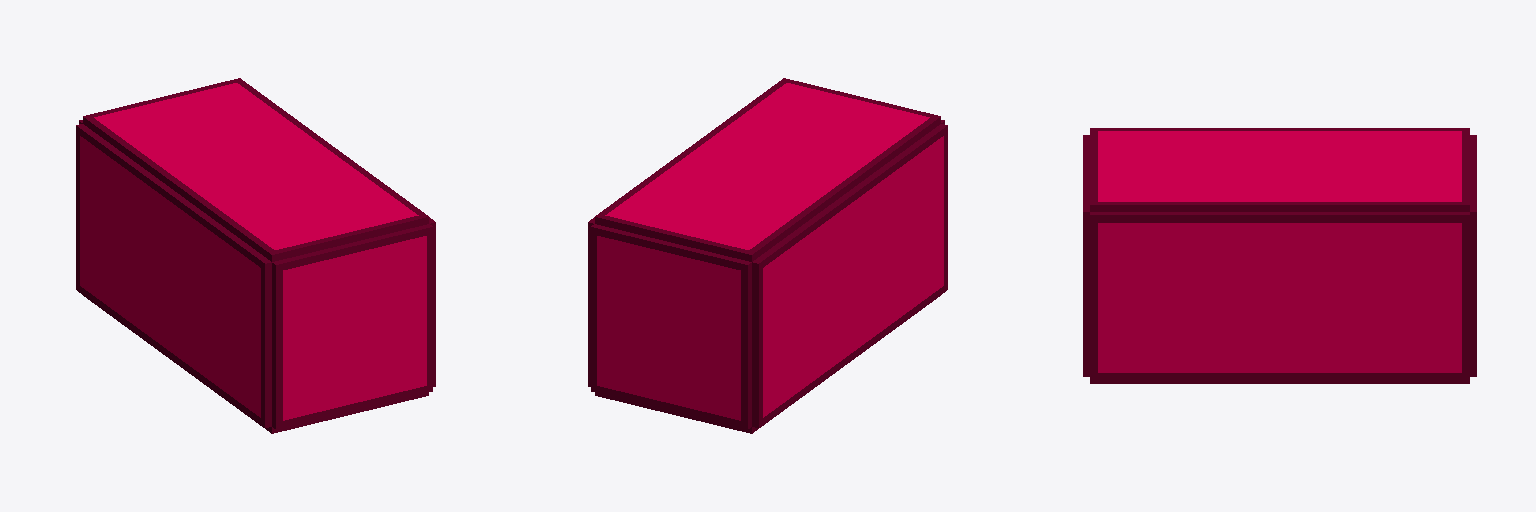
3 renders of one model, left to right at view 1: azimuth 30°, elevation 25°; view 2: azimuth 150°, elevation 25°; view 3: azimuth 270°, elevation 25°, orthographic.
Visible parts, largest first — view 1: red; view 2: red; view 3: red.
Part boxes in pixels (x1,y1,x2,y2): red: (76,78,435,433); red: (588,78,947,433); red: (1083,128,1476,383).
Bounding box in the file's own units: 25 × 25 × 50.
1 materials, 1 textured.